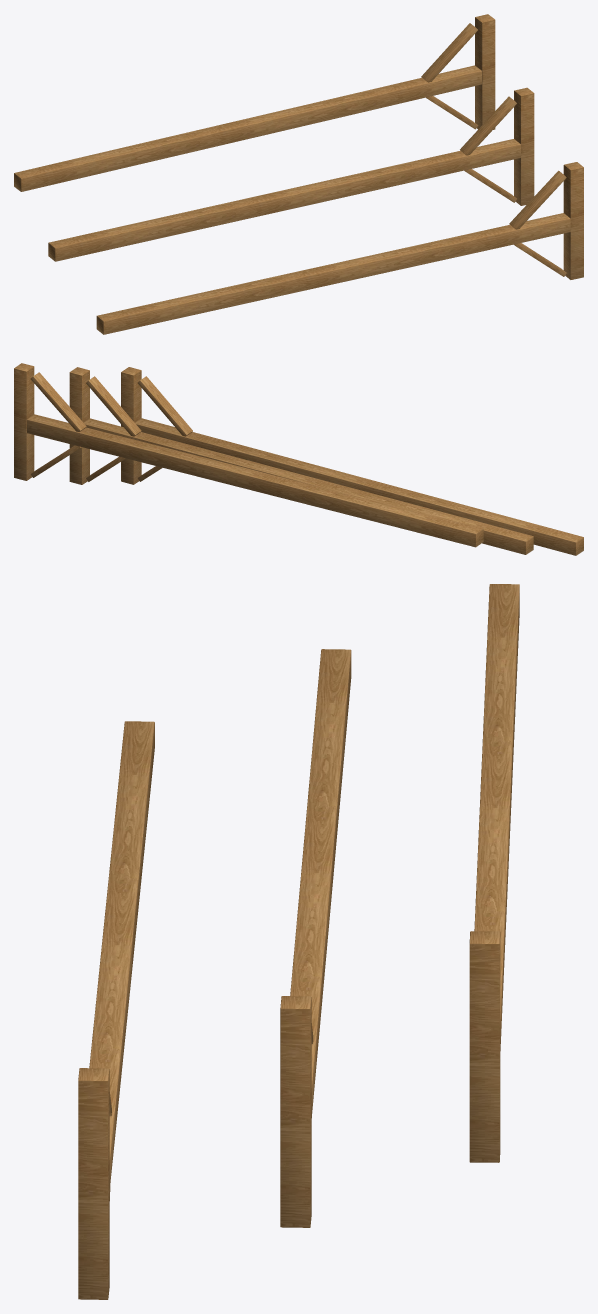
File: EST-ESC-003_anim.glb
3 renders of one model, top to bottom at view 1: azimuth 30°, elevation 25°; view 2: azimuth 150°, elevation 25°; view 3: azimuth 270°, elevation 25°, orthographic. The views are drawn at different scales.
Parts seen in each view (by area): view 1: EST-ESC-003_anim0, EST-ESC-003_anim1, EST-ESC-003_anim2; view 2: EST-ESC-003_anim2, EST-ESC-003_anim0, EST-ESC-003_anim1; view 3: EST-ESC-003_anim0, EST-ESC-003_anim1, EST-ESC-003_anim2.
Boxes of the visible parts, x1,y1,x2,y2 form: EST-ESC-003_anim0: (96, 162, 583, 334); EST-ESC-003_anim1: (48, 87, 534, 261); EST-ESC-003_anim2: (14, 14, 495, 191); EST-ESC-003_anim2: (14, 363, 483, 547); EST-ESC-003_anim0: (121, 367, 583, 555); EST-ESC-003_anim1: (69, 367, 533, 554); EST-ESC-003_anim0: (78, 721, 154, 1299); EST-ESC-003_anim1: (280, 649, 351, 1227); EST-ESC-003_anim2: (469, 584, 519, 1162).
Bounding box in the file's own units: 2.73 × 1 × 1.09.
Materials: 1 (1 with a texture image).
